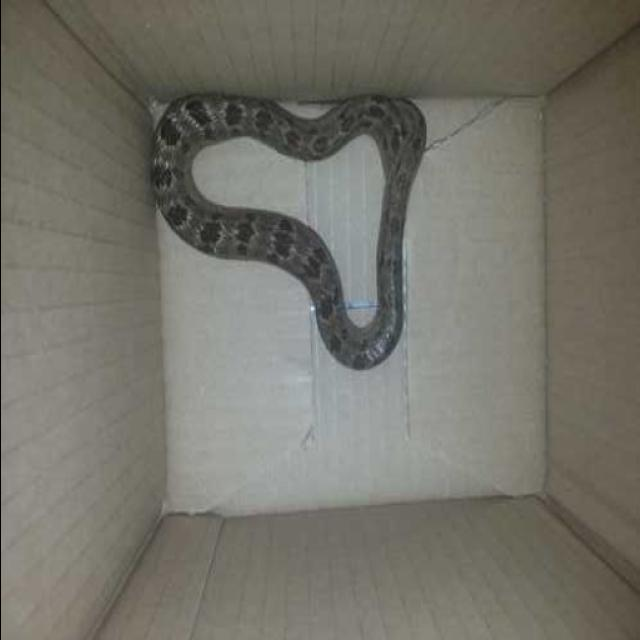snake: (126, 82, 434, 386)
